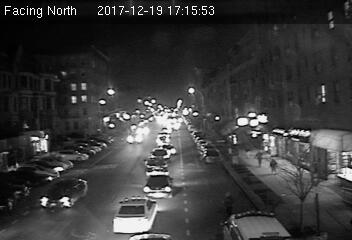car: (39, 177, 89, 209), (143, 174, 175, 200), (143, 156, 170, 176), (202, 150, 222, 165), (150, 148, 169, 160)
police: (217, 205, 297, 240), (112, 194, 161, 233)
